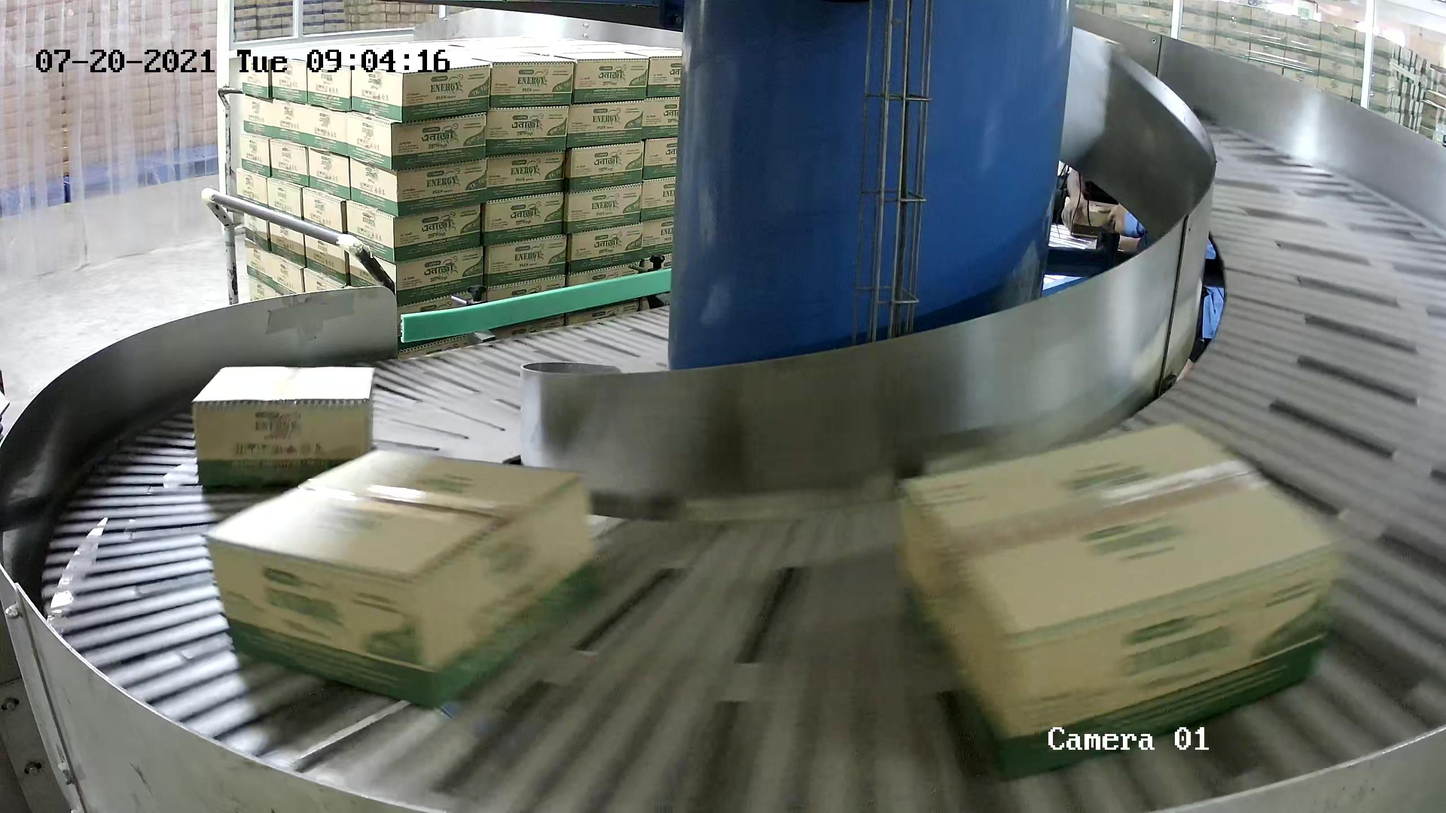Box: (892, 415, 1354, 791), (204, 449, 615, 717), (190, 363, 378, 488)
